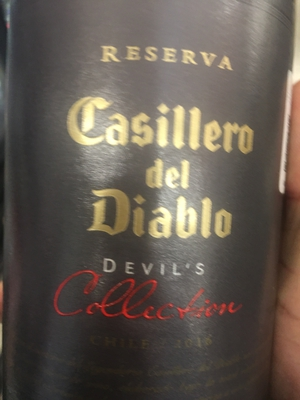casillero del diablo devils collection rojo: (2, 3, 288, 400)
